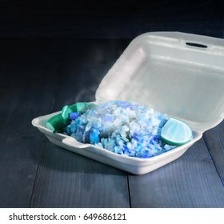foam_box: (24, 24, 224, 180)
